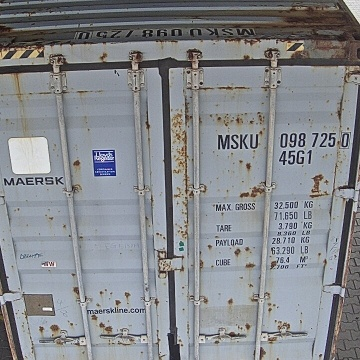serial_id: (218, 132, 350, 149)
